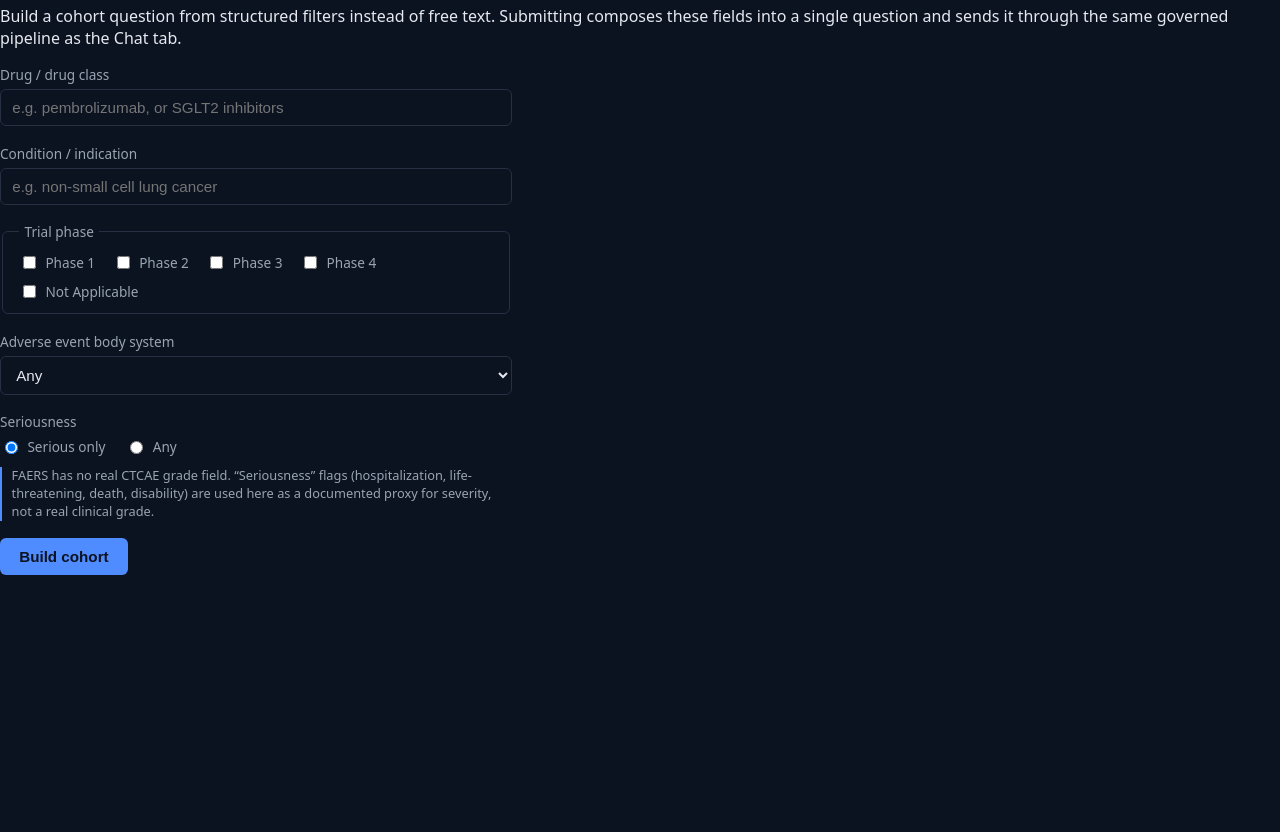
Scenario: CohortPage › renders a successful response's SQL and rows as a cohort table
Click the button "Build cohort" at coordinates (64, 556), box x1=0 y1=538 x2=128 y2=575
(page scrolled)
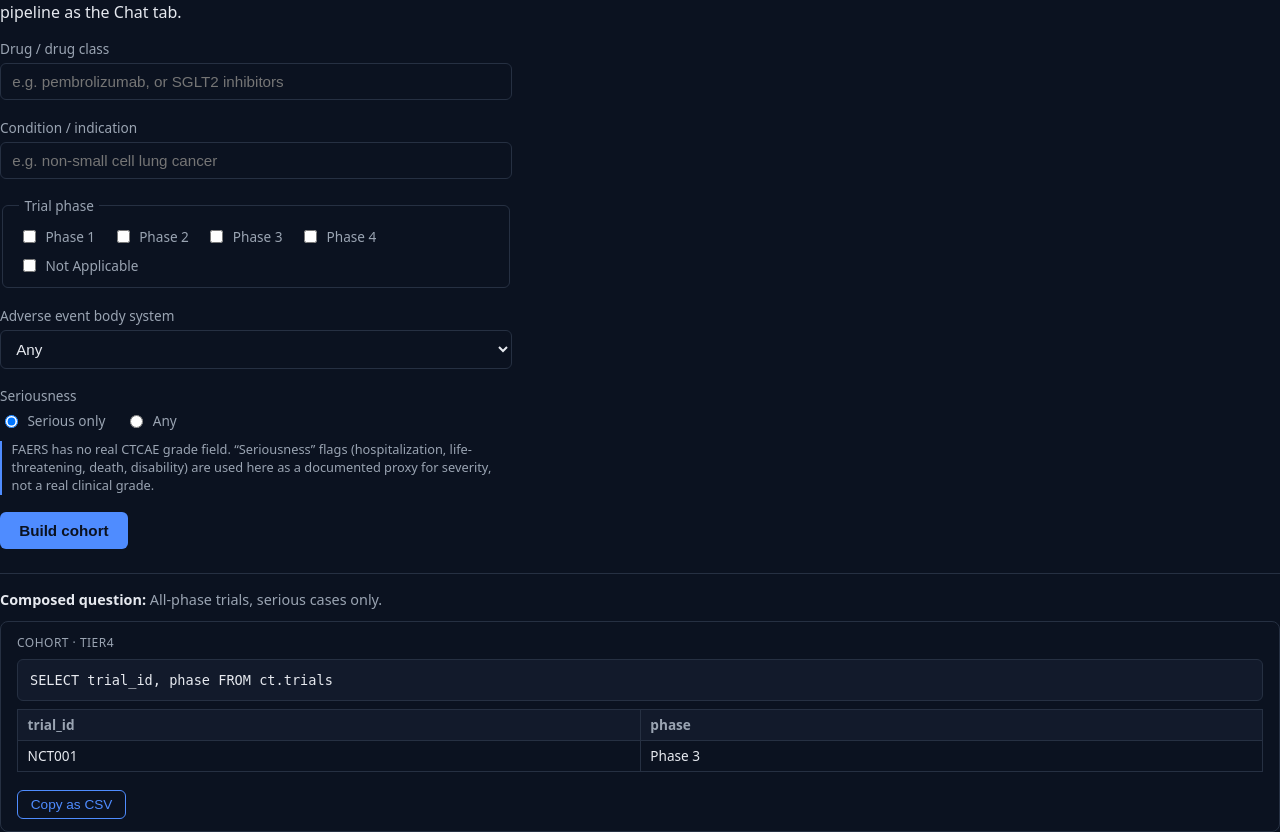
Now the text "SELECT trial_id, phase FROM ct.trials" is shown, box x1=30 y1=672 x2=333 y2=688
Now the text "NCT001" is shown, box x1=18 y1=740 x2=640 y2=772
Now the button "Copy as CSV" is shown, box x1=17 y1=790 x2=126 y2=819
